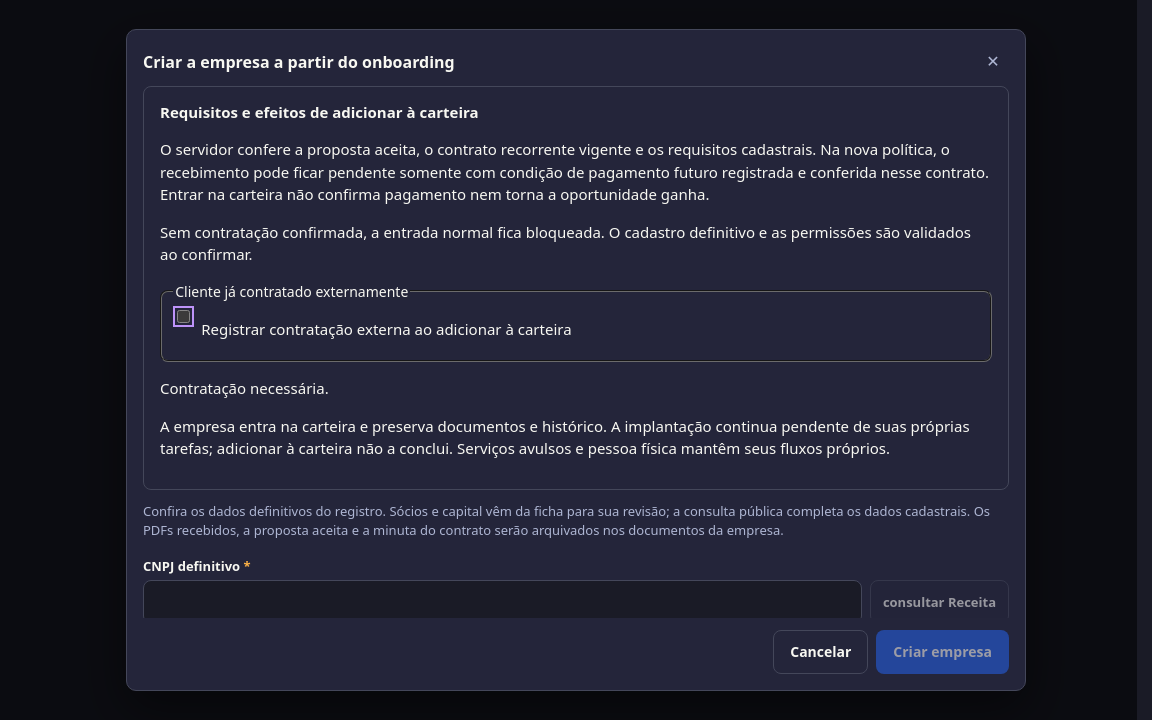
it: T31/T35: modal bloqueado, exceção explícita e campos acessíveis somente quando aplicáveis
Expected: the button "Criar empresa" is disabled, [876, 630, 1009, 674]
Expected: the field labelled "Justificativa da exceção" is not shown
Click the checkbox labelled "Registrar contratação externa ao adicionar à carteira": (184, 316) [177, 310, 190, 323]
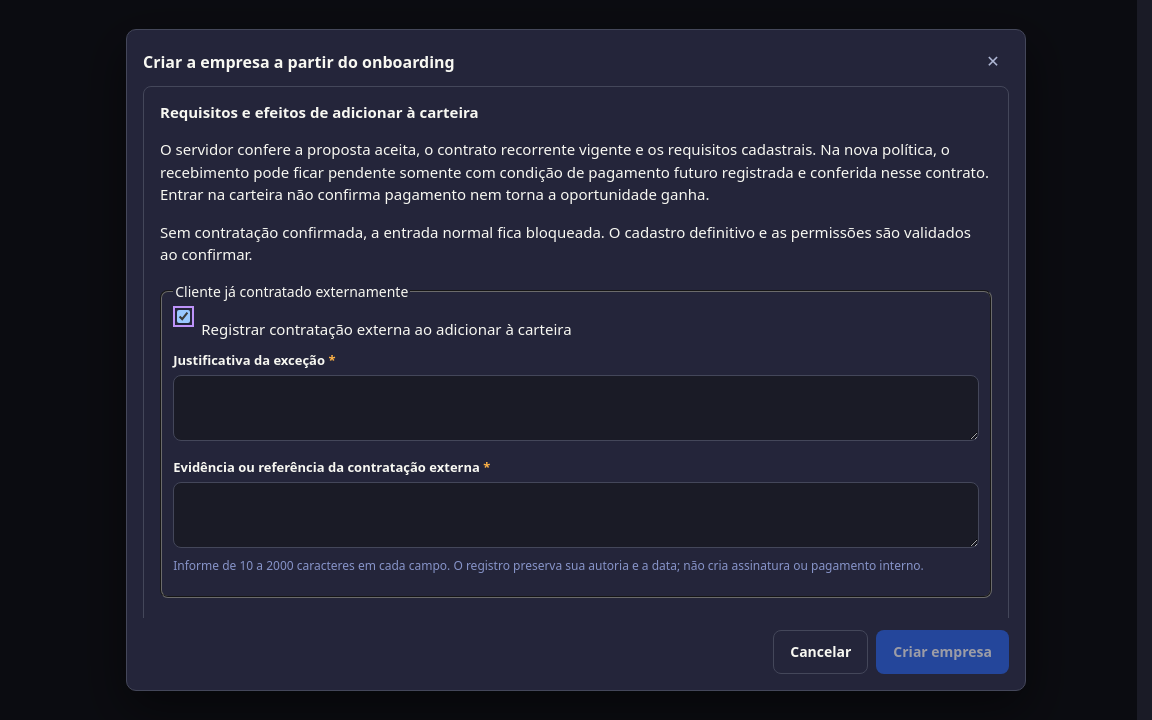
Expected: the button "Criar empresa" is disabled, [876, 630, 1009, 674]
Expected: the text box labelled "Justificativa da exceção *" is shown, [173, 374, 979, 440]
Expected: the text box labelled "Evidência ou referência da contratação externa *" is shown, [173, 482, 979, 548]
